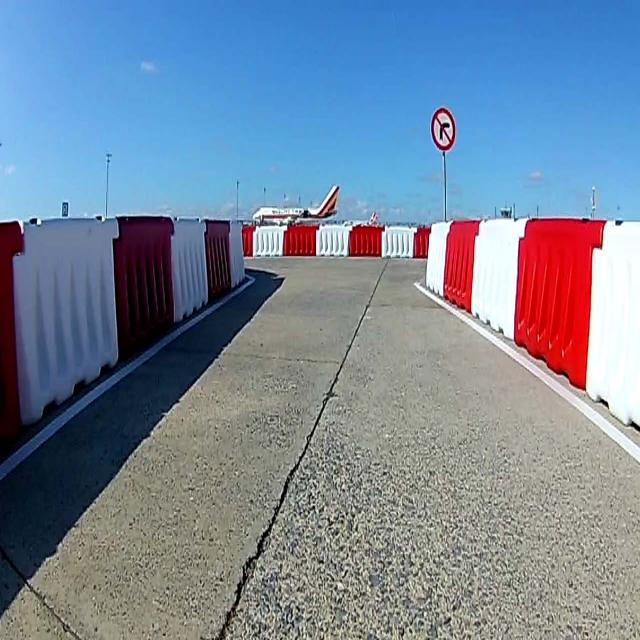sagadonulmez: (430, 106, 456, 150)
